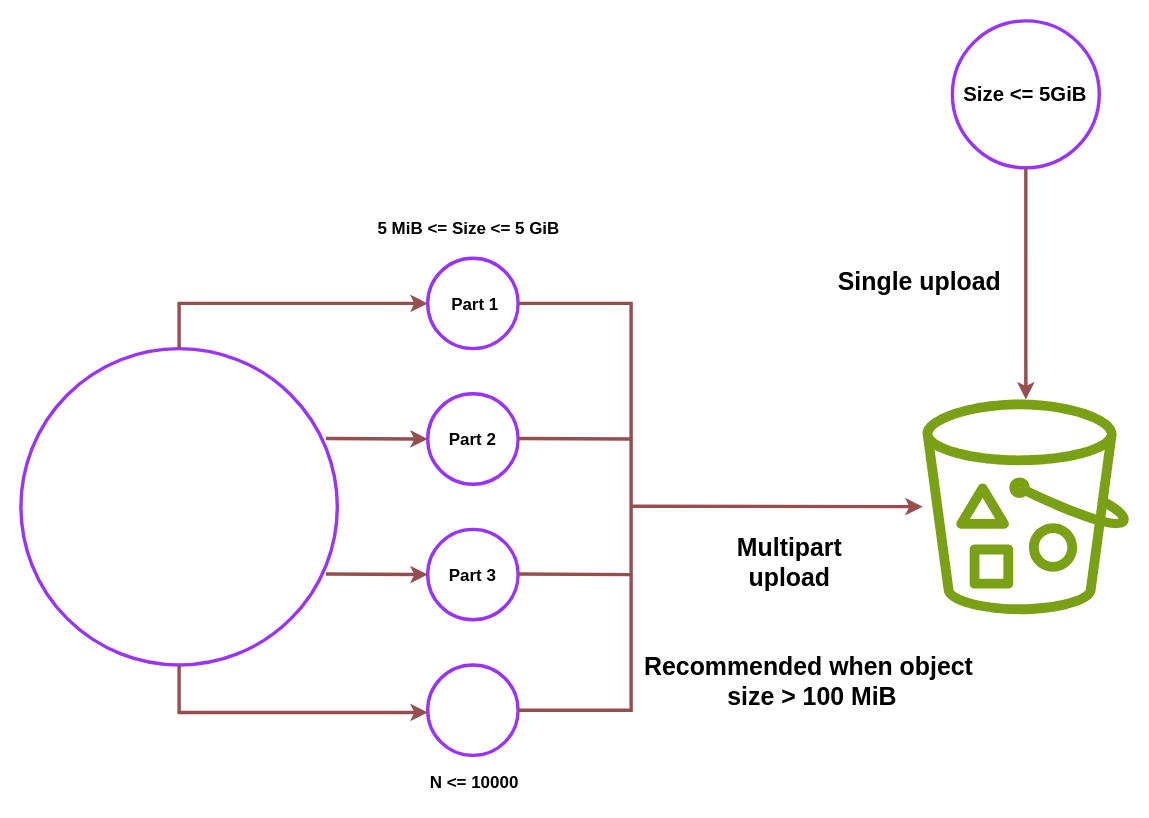
Image size: 1149x818. Some labels were removed from this diagram. The centre of each missing label's shape, as x and y in pixels:
Part N: point 472,710
Size <= 5TiB: point 178,506
